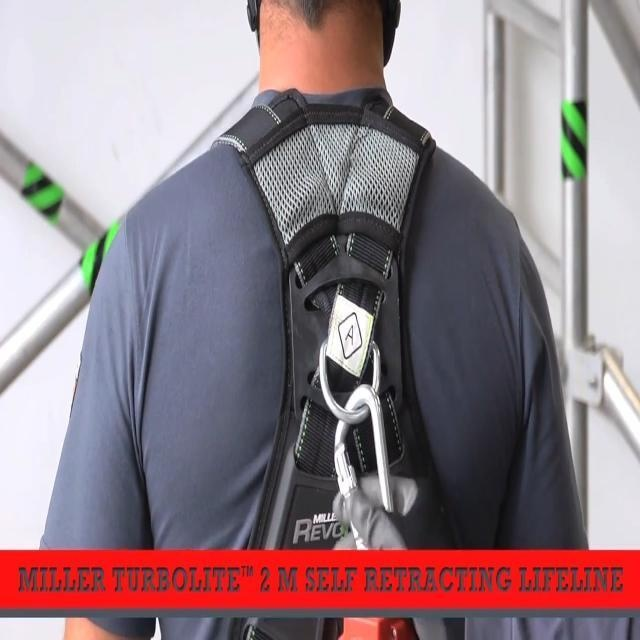Arnes_seguridad: (212, 88, 467, 640)
